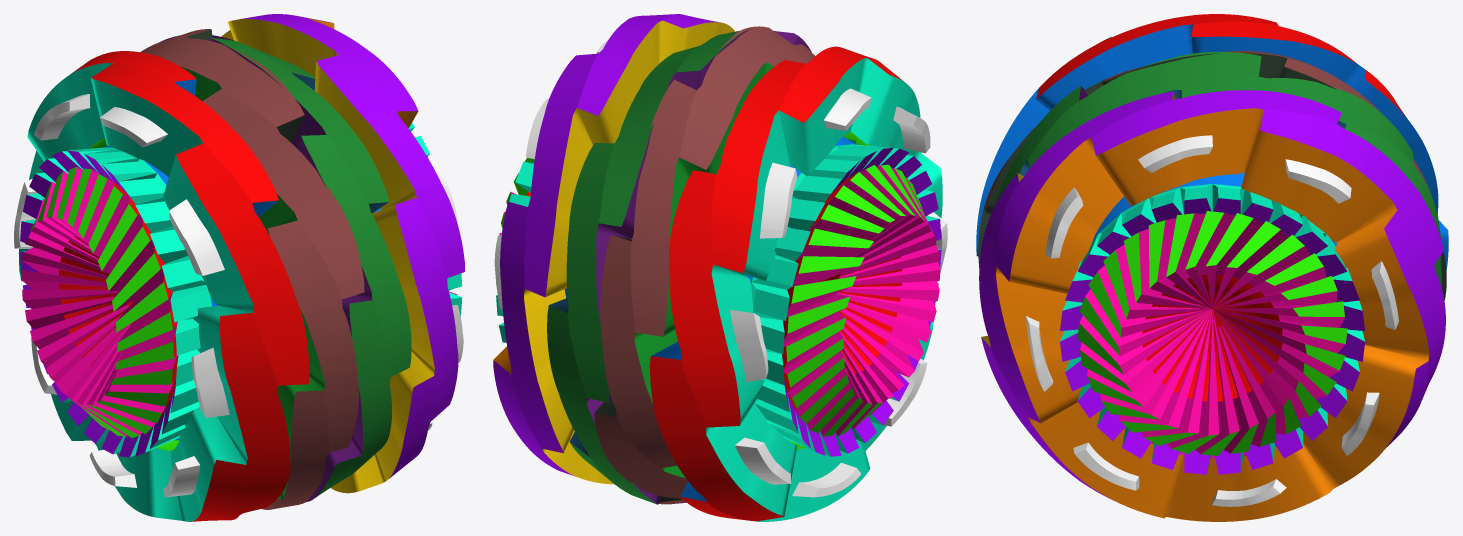
File: RollingBalls_Sci-fi_4.fbx
The picture shows the model from 3 angles, left to right: view 1: azimuth 30°, elevation 25°; view 2: azimuth 150°, elevation 25°; view 3: azimuth 270°, elevation 25°; orthographic projection. The views are drawn at different scales.
Visible parts, largest first — view 1: RollingBalls_Sci-fi_4_1, RollingBalls_Sci-fi_4_2; view 2: RollingBalls_Sci-fi_4_1, RollingBalls_Sci-fi_4_2; view 3: RollingBalls_Sci-fi_4_1, RollingBalls_Sci-fi_4_2.
Boxes of the visible parts, x1,y1,x2,y2 form: RollingBalls_Sci-fi_4_1: [14, 14, 464, 521]; RollingBalls_Sci-fi_4_2: [20, 123, 462, 457]; RollingBalls_Sci-fi_4_1: [493, 14, 947, 521]; RollingBalls_Sci-fi_4_2: [496, 136, 941, 456]; RollingBalls_Sci-fi_4_1: [976, 14, 1448, 521]; RollingBalls_Sci-fi_4_2: [1060, 172, 1364, 474].
Bounding box in the file's own units: 140 × 172 × 172.
